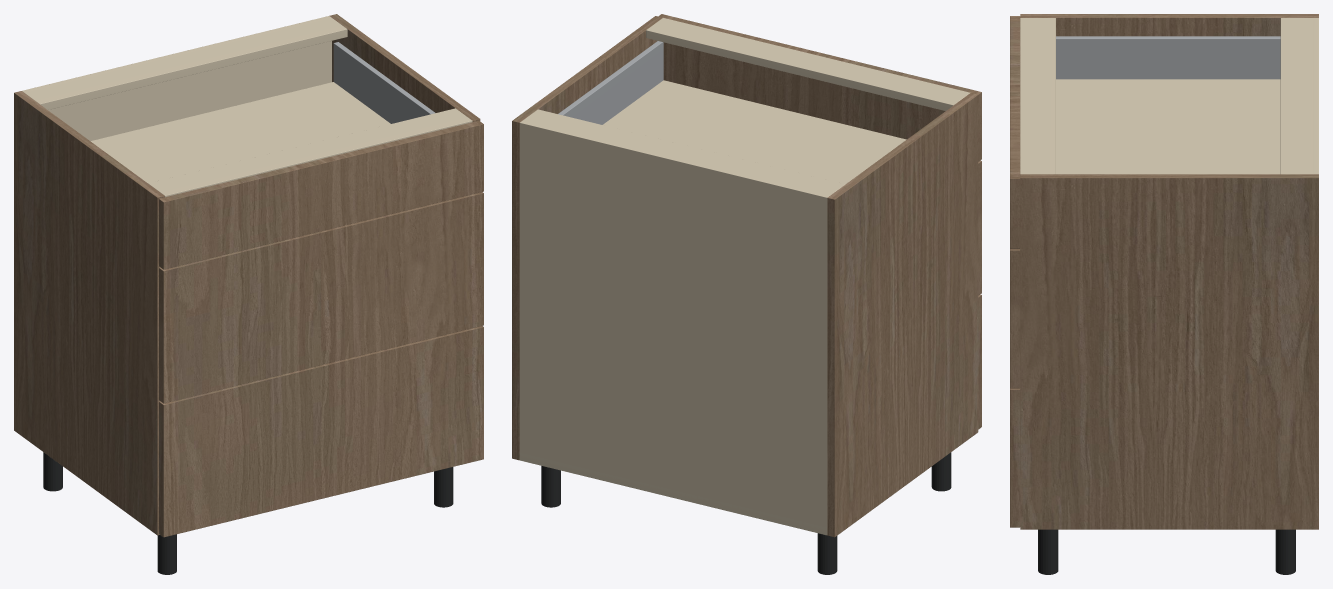
Rendered from oppein-ply-mnw-3db30.glb.
3 renders of one model, left to right at view 1: azimuth 30°, elevation 25°; view 2: azimuth 150°, elevation 25°; view 3: azimuth 270°, elevation 25°, orthographic. The views are drawn at different scales.
Parts seen in each view (by area): view 1: Cabinet side, Drawer front, Drawer front.001, Drawer front.002, Drawer floor.002, Cabinet back, Top support rail, Top support rail.001, Drawer side.005, Cabinet side.001, Adjustable foot.001, Adjustable foot.003 (+1 smaller); view 2: Cabinet back, Cabinet side, Drawer floor.002, Drawer front.002, Top support rail.001, Cabinet side.001, Top support rail, Drawer side.005, Cabinet bottom, Adjustable foot, Adjustable foot.002, Adjustable foot.001; view 3: Cabinet side.001, Drawer floor.002, Drawer side.004, Top support rail.001, Cabinet side, Top support rail, Drawer front.002, Drawer front, Drawer front.001, Adjustable foot.003, Adjustable foot.002, Cabinet back.
Boxes of the visible parts, x1,y1,x2,y2 form: Cabinet side: (14, 91, 164, 535); Drawer front: (159, 326, 483, 537); Drawer front.001: (159, 192, 483, 403); Drawer front.002: (159, 120, 483, 269); Drawer floor.002: (90, 82, 390, 183); Cabinet back: (22, 16, 331, 140); Top support rail: (23, 17, 347, 109); Top support rail.001: (148, 108, 472, 197); Drawer side.005: (333, 42, 435, 123); Cabinet side.001: (329, 14, 480, 121); Adjustable foot.001: (157, 534, 176, 574); Adjustable foot.003: (434, 467, 453, 507); Cabinet back: (519, 120, 829, 534); Cabinet side: (827, 93, 978, 537); Drawer floor.002: (603, 80, 906, 184); Drawer front.002: (658, 14, 981, 161); Top support rail.001: (646, 18, 970, 110); Cabinet side.001: (512, 16, 662, 460); Top support rail: (523, 109, 844, 195); Drawer side.005: (558, 41, 663, 124); Cabinet bottom: (520, 453, 826, 535); Adjustable foot: (817, 533, 837, 574); Adjustable foot.002: (541, 466, 560, 507); Adjustable foot.001: (931, 452, 951, 491); Cabinet side.001: (1020, 174, 1318, 529); Drawer floor.002: (1056, 79, 1280, 174); Drawer side.004: (1056, 36, 1280, 79); Top support rail.001: (1020, 18, 1055, 174); Cabinet side: (1020, 14, 1318, 36); Top support rail: (1280, 18, 1315, 174); Drawer front.002: (1010, 16, 1020, 248); Drawer front: (1010, 388, 1020, 527); Drawer front.001: (1010, 249, 1020, 388); Adjustable foot.003: (1038, 529, 1058, 574); Adjustable foot.002: (1275, 529, 1295, 574); Cabinet back: (1313, 18, 1318, 174).
Size of the model in its own units: 0.762 by 0.8763 by 0.6064.
4 materials, 1 textured.
